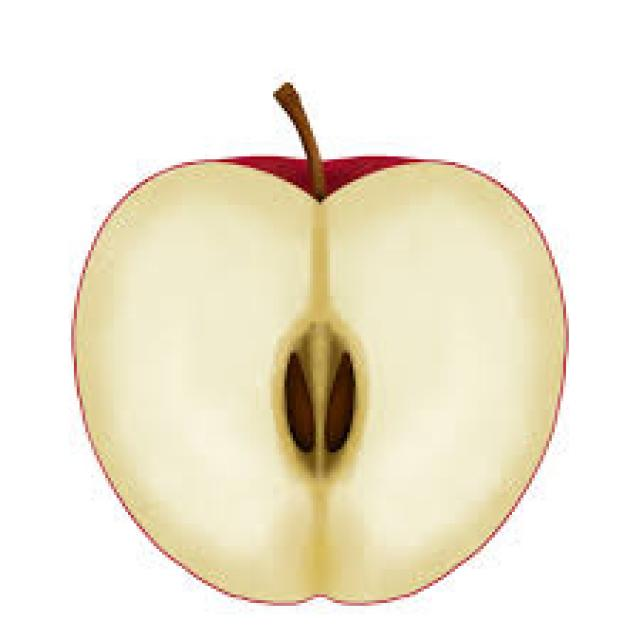Apple: (68, 154, 566, 603)
